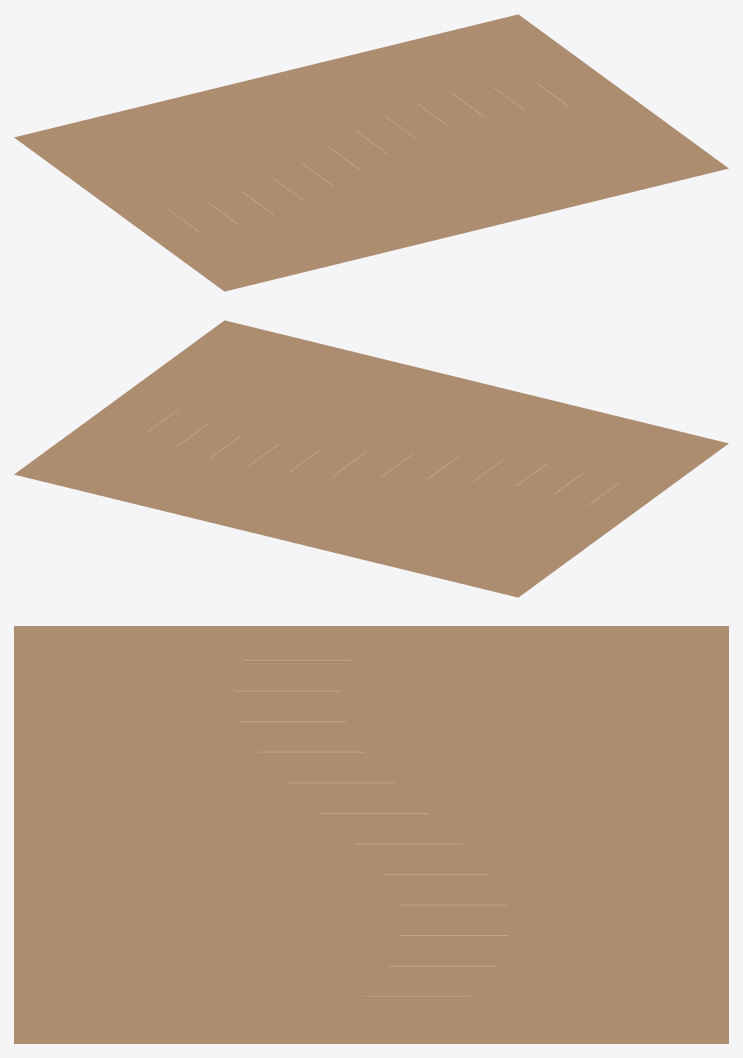
Rendered from 286_L120_L21_LayerReference.glb.
3 views of the same model, one above another, from view 1: azimuth 30°, elevation 25°; view 2: azimuth 150°, elevation 25°; view 3: azimuth 270°, elevation 25° (orthographic). The views are drawn at different scales.
Visible parts, largest first — view 1: 0000__PSMAT__copper_dark; view 2: 0000__PSMAT__copper_dark; view 3: 0000__PSMAT__copper_dark.
Boxes of the visible parts, x1=… form: 0000__PSMAT__copper_dark: x1=14, y1=14, x2=728, y2=291; 0000__PSMAT__copper_dark: x1=14, y1=320, x2=728, y2=597; 0000__PSMAT__copper_dark: x1=14, y1=626, x2=728, y2=1043.
Bounding box in the file's own units: 0.506 × 9.4e-05 × 0.366.
